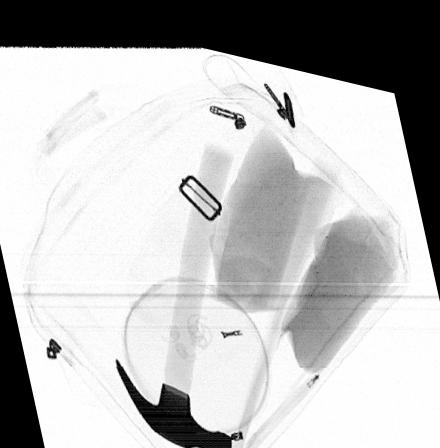Hammer: (111, 128, 234, 448)
